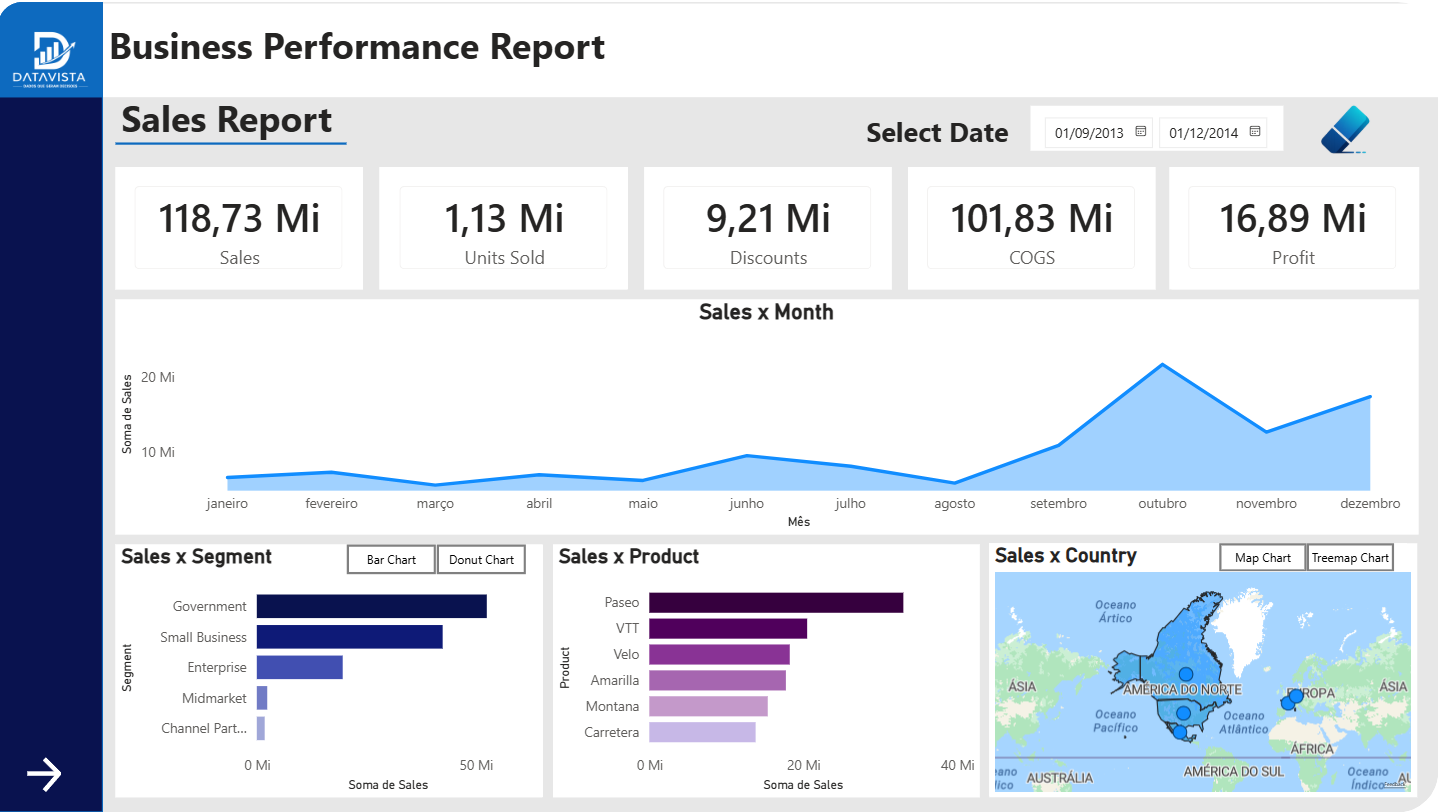

What the dashboard file says about the page in this screenshot:
{"tool":"powerbi","page":{"name":"Página 1","canvas":[1280,720],"ordinal":0},"visuals":[{"type":"shape","box":[0,0,1280.3,720.4],"z":0},{"type":"shape","box":[0,0,93.3,85.1],"z":0,"group":"g6"},{"type":"image","title":"clean","box":[1142.8,82.7,110.5,64.8],"z":0,"group":"g2"},{"type":"shape","box":[104.5,114,205.3,22.8],"z":0,"group":"g5"},{"type":"shape","box":[104.4,146.7,220.1,108.9],"z":0,"group":"g1"},{"type":"shape","box":[881.4,481.7,371.5,224.5],"z":0,"group":"g3"},{"type":"clusteredBarChart","title":"Sales x Segment","fields":{"Y":["Sum(financials.Sales)"],"Category":["financials.Segment"]},"box":[104.5,482.7,379.4,224.5],"z":0,"group":"g4"},{"type":"shape","box":[0,0,93.3,720.4],"z":1000},{"type":"image","title":"Imagem - logo","box":[0,0,93.3,107],"z":1000,"group":"g6"},{"type":"textbox","box":[104.5,76.8,219.7,60],"z":1000,"group":"g5"},{"type":"slicer","fields":{"Values":["financials.Date"]},"box":[918.3,92.3,224.5,39.6],"z":1000,"group":"g2"},{"type":"shape","box":[339.3,146.7,219.9,108.9],"z":1000,"group":"g1"},{"type":"azureMap","title":"Sales x Country","fields":{"Category":["financials.Country"]},"box":[881.7,481.5,379.9,225.4],"z":1000,"group":"g3"},{"type":"textbox","box":[766.9,94.9,148.3,52.5],"z":2000,"group":"g2"},{"type":"group","id":"g1","title":"Cartões","box":[104.4,146.7,1158.9,108.9],"z":2000},{"type":"shape","box":[573.9,146.7,219.9,108.9],"z":2000,"group":"g1"},{"type":"actionButton","title":"Botão - bar chart","box":[310.3,482.8,79.3,26.4],"z":2000,"group":"g4"},{"type":"actionButton","box":[1171.6,88.7,55.2,45.6],"z":3000,"group":"g2"},{"type":"shape","box":[808.6,146.7,219.9,108.9],"z":3000,"group":"g1"},{"type":"shape","box":[104.5,264.2,1158.7,208.9],"z":3000},{"type":"actionButton","title":"Botão - map chart","box":[1086.1,481.7,77.7,25.2],"z":3000,"group":"g3"},{"type":"actionButton","title":"Botão - donut chart","box":[389.6,482.8,79.3,26.4],"z":3000,"group":"g4"},{"type":"shape","box":[1043.2,146.7,220.1,108.9],"z":4000,"group":"g1"},{"type":"actionButton","title":"Botão - treemap chart","box":[1163.7,481.7,77.7,25.2],"z":4000,"group":"g3"},{"type":"shape","box":[104.5,482.7,380,224.5],"z":4000},{"type":"cardVisual","fields":{"Data":["Sum(financials.Units Sold)"]},"box":[339.9,146.7,219.8,108.5],"z":5000,"group":"g1"},{"type":"shape","box":[493.8,482.7,379.4,224.5],"z":5000},{"type":"cardVisual","fields":{"Data":["Sum(financials.Sales)"]},"box":[104.4,146.7,219.8,108.5],"z":6000,"group":"g1"},{"type":"stackedAreaChart","title":"Sales x Month","fields":{"Category":["financials.Date.Variation.Hierarquia de datas.Mês"],"Y":["Sum(financials.Sales)"]},"box":[104.5,264.2,1157.5,208.9],"z":6000},{"type":"cardVisual","fields":{"Data":["Sum(financials.Discounts)"]},"box":[574.1,146.7,219.8,108.5],"z":7000,"group":"g1"},{"type":"clusteredBarChart","title":"Sales x Product","fields":{"Y":["Sum(financials.Sales)"],"Category":["financials.Product"]},"box":[492.9,482.7,379.4,224.5],"z":7000},{"type":"shape","box":[93.3,1.4,1187,83.7],"z":8000},{"type":"cardVisual","fields":{"Data":["Sum(financials.Profit)"]},"box":[1041.4,146.7,219.8,108.5],"z":8000,"group":"g1"},{"type":"group","id":"g2","title":"Grupo 1","box":[766.9,82.7,486.4,64.8],"z":9000},{"type":"cardVisual","fields":{"Data":["Sum(financials.COGS)"]},"box":[808.4,146.7,219.8,108.5],"z":9000,"group":"g1"},{"type":"group","id":"g3","title":"Sales x Country","box":[881.4,481.5,380.2,225.4],"z":10000},{"type":"group","id":"g4","title":"Sales x Segment","box":[104.5,482.7,379.4,224.5],"z":11000},{"type":"group","id":"g5","title":"Title","box":[104.5,76.8,219.7,60],"z":12000},{"type":"actionButton","title":"Botão - arrow","box":[19.5,666.4,54.3,40.3],"z":13000},{"type":"group","id":"g6","title":"logo","box":[0,0,93.3,107],"z":14000},{"type":"textbox","box":[93.8,11.2,480,63.8],"z":15000}]}

Visuals, with their boxes in screenshot pixels (x1, y1, x2, y2), scaled from the page's 1280x720 canvas onto the 1438x812 screenshot:
shape: pyautogui.locateOnScreen(0, 0, 1437, 811)
shape: pyautogui.locateOnScreen(0, 0, 105, 96)
"clean" image: pyautogui.locateOnScreen(1284, 93, 1408, 166)
shape: pyautogui.locateOnScreen(117, 129, 348, 154)
shape: pyautogui.locateOnScreen(117, 165, 365, 288)
shape: pyautogui.locateOnScreen(990, 543, 1408, 796)
"Sales x Segment" clusteredBarChart: pyautogui.locateOnScreen(117, 544, 544, 798)
shape: pyautogui.locateOnScreen(0, 0, 105, 811)
"Imagem - logo" image: pyautogui.locateOnScreen(0, 0, 105, 121)
textbox: pyautogui.locateOnScreen(117, 87, 364, 154)
slicer - financials.Date: pyautogui.locateOnScreen(1032, 104, 1284, 149)
shape: pyautogui.locateOnScreen(381, 165, 628, 288)
"Sales x Country" azureMap: pyautogui.locateOnScreen(991, 543, 1417, 797)
textbox: pyautogui.locateOnScreen(862, 107, 1028, 166)
"Cartões" group: pyautogui.locateOnScreen(117, 165, 1419, 288)
shape: pyautogui.locateOnScreen(645, 165, 892, 288)
"Botão - bar chart" actionButton: pyautogui.locateOnScreen(349, 544, 438, 574)
actionButton: pyautogui.locateOnScreen(1316, 100, 1378, 151)
shape: pyautogui.locateOnScreen(908, 165, 1155, 288)
shape: pyautogui.locateOnScreen(117, 298, 1419, 534)
"Botão - map chart" actionButton: pyautogui.locateOnScreen(1220, 543, 1307, 572)
"Botão - donut chart" actionButton: pyautogui.locateOnScreen(438, 544, 527, 574)
shape: pyautogui.locateOnScreen(1172, 165, 1419, 288)
"Botão - treemap chart" actionButton: pyautogui.locateOnScreen(1307, 543, 1395, 572)
shape: pyautogui.locateOnScreen(117, 544, 544, 798)
cardVisual - Sum(financials.Units Sold): pyautogui.locateOnScreen(382, 165, 629, 288)
shape: pyautogui.locateOnScreen(555, 544, 981, 798)
cardVisual - Sum(financials.Sales): pyautogui.locateOnScreen(117, 165, 364, 288)
"Sales x Month" stackedAreaChart: pyautogui.locateOnScreen(117, 298, 1418, 534)
cardVisual - Sum(financials.Discounts): pyautogui.locateOnScreen(645, 165, 892, 288)
"Sales x Product" clusteredBarChart: pyautogui.locateOnScreen(554, 544, 980, 798)
shape: pyautogui.locateOnScreen(105, 2, 1437, 96)
cardVisual - Sum(financials.Profit): pyautogui.locateOnScreen(1170, 165, 1417, 288)
"Grupo 1" group: pyautogui.locateOnScreen(862, 93, 1408, 166)
cardVisual - Sum(financials.COGS): pyautogui.locateOnScreen(908, 165, 1155, 288)
"Sales x Country" group: pyautogui.locateOnScreen(990, 543, 1417, 797)
"Sales x Segment" group: pyautogui.locateOnScreen(117, 544, 544, 798)
"Title" group: pyautogui.locateOnScreen(117, 87, 364, 154)
"Botão - arrow" actionButton: pyautogui.locateOnScreen(22, 752, 83, 797)
"logo" group: pyautogui.locateOnScreen(0, 0, 105, 121)
textbox: pyautogui.locateOnScreen(105, 13, 645, 85)
